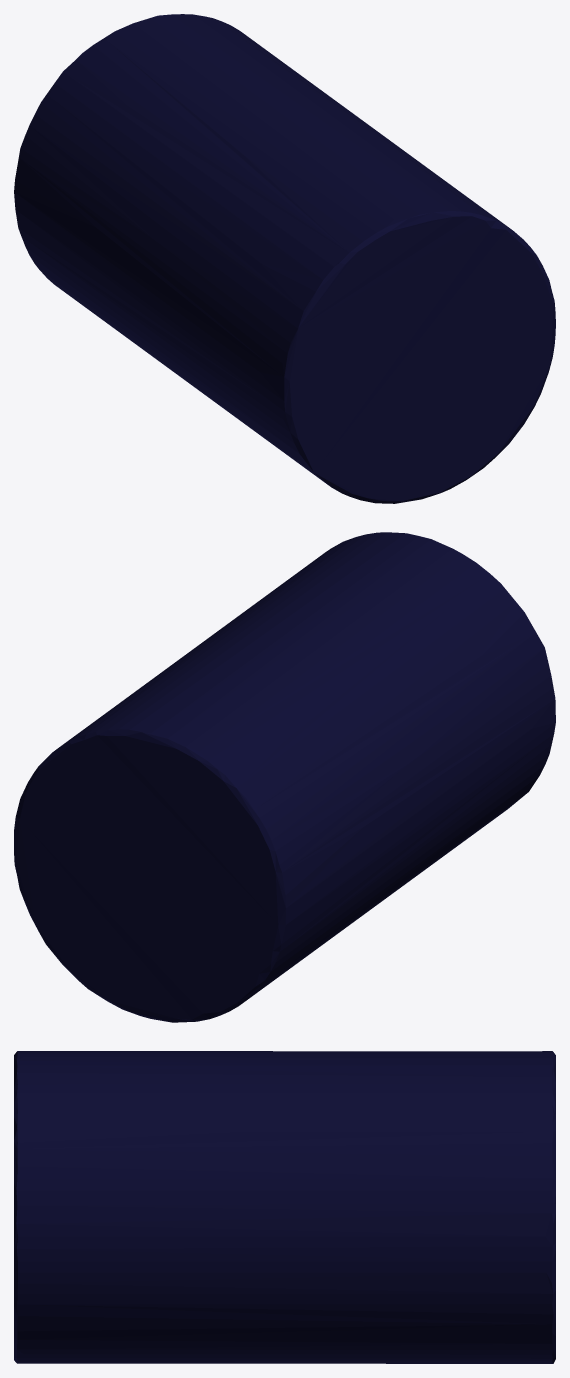
The model's file is 1_container__Layer_3_mtl.obj.
The picture shows the model from 3 angles, top to bottom: view 1: azimuth 30°, elevation 25°; view 2: azimuth 150°, elevation 25°; view 3: azimuth 270°, elevation 25°; orthographic projection.
Visible parts, largest first — view 1: 1_container__Layer_3_mtl; view 2: 1_container__Layer_3_mtl; view 3: 1_container__Layer_3_mtl.
Part boxes in pixels (x1=…): 1_container__Layer_3_mtl: x1=14, y1=14, x2=555, y2=503; 1_container__Layer_3_mtl: x1=14, y1=532, x2=555, y2=1022; 1_container__Layer_3_mtl: x1=14, y1=1051, x2=555, y2=1363.
Bounding box in the file's own units: 0.0905 × 0.0905 × 0.1568.
